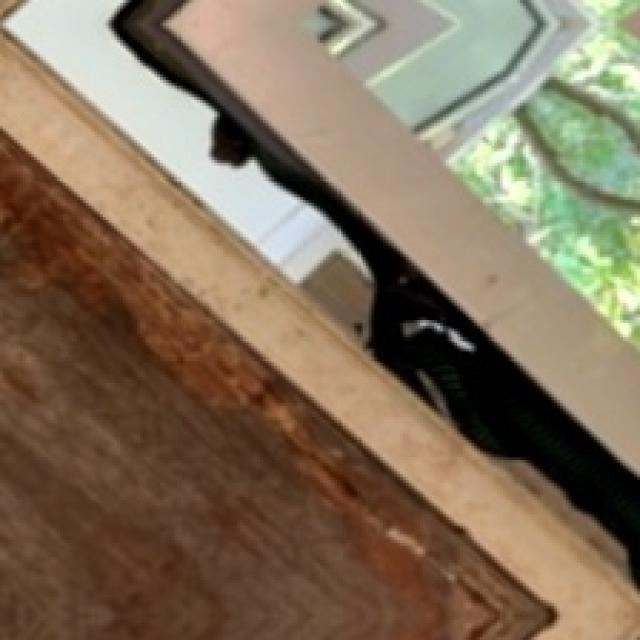paradise tree snake: (114, 0, 637, 580)
